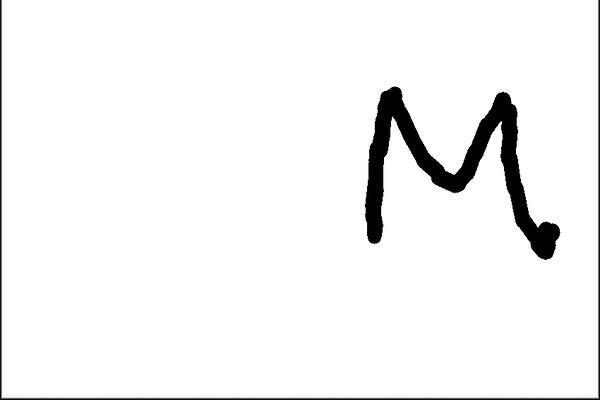M: (363, 83, 560, 263)
